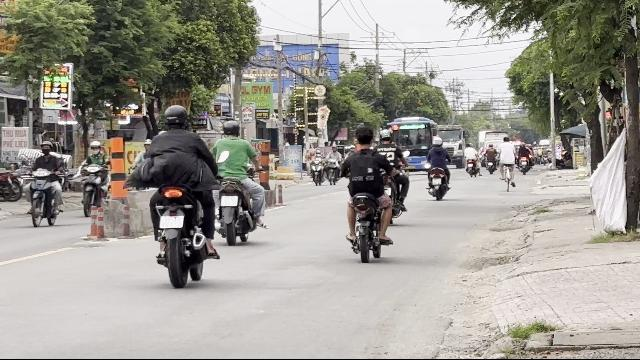helmet: (163, 104, 187, 128), (222, 120, 240, 136)
licenseplate: (160, 216, 183, 228), (221, 196, 237, 206)
motorcyclist: (142, 103, 218, 286), (340, 124, 402, 262), (211, 118, 267, 244)
nohelmet: (354, 125, 374, 149)
